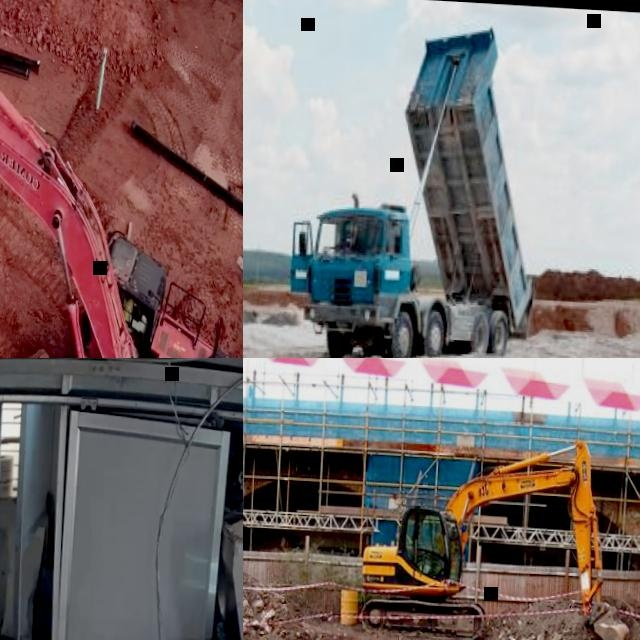Person: (120, 291, 133, 327)
Safety Vest: (121, 300, 132, 321)
machinery: (282, 13, 549, 358), (0, 8, 243, 358), (355, 422, 638, 640)
